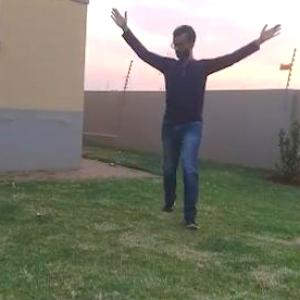takeoff: (106, 0, 299, 235)
